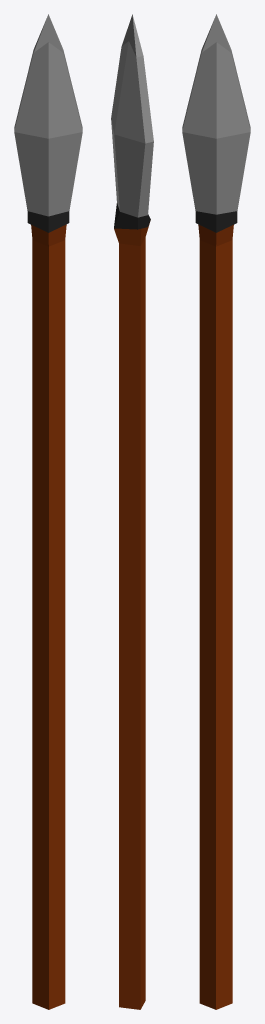
The model's file is spear.obj.
3 renders of one model, left to right at view 1: azimuth 90°, elevation 25°; view 2: azimuth 210°, elevation 25°; view 3: azimuth 270°, elevation 25°, orthographic.
Visible parts, largest first — view 1: spear; view 2: spear; view 3: spear.
Boxes of the visible parts, x1,y1,x2,y2 form: spear: (14, 14, 82, 1009); spear: (111, 14, 153, 1009); spear: (182, 14, 250, 1009).
Size of the model in its own units: 0.0379 by 0.9668 by 0.0607.
